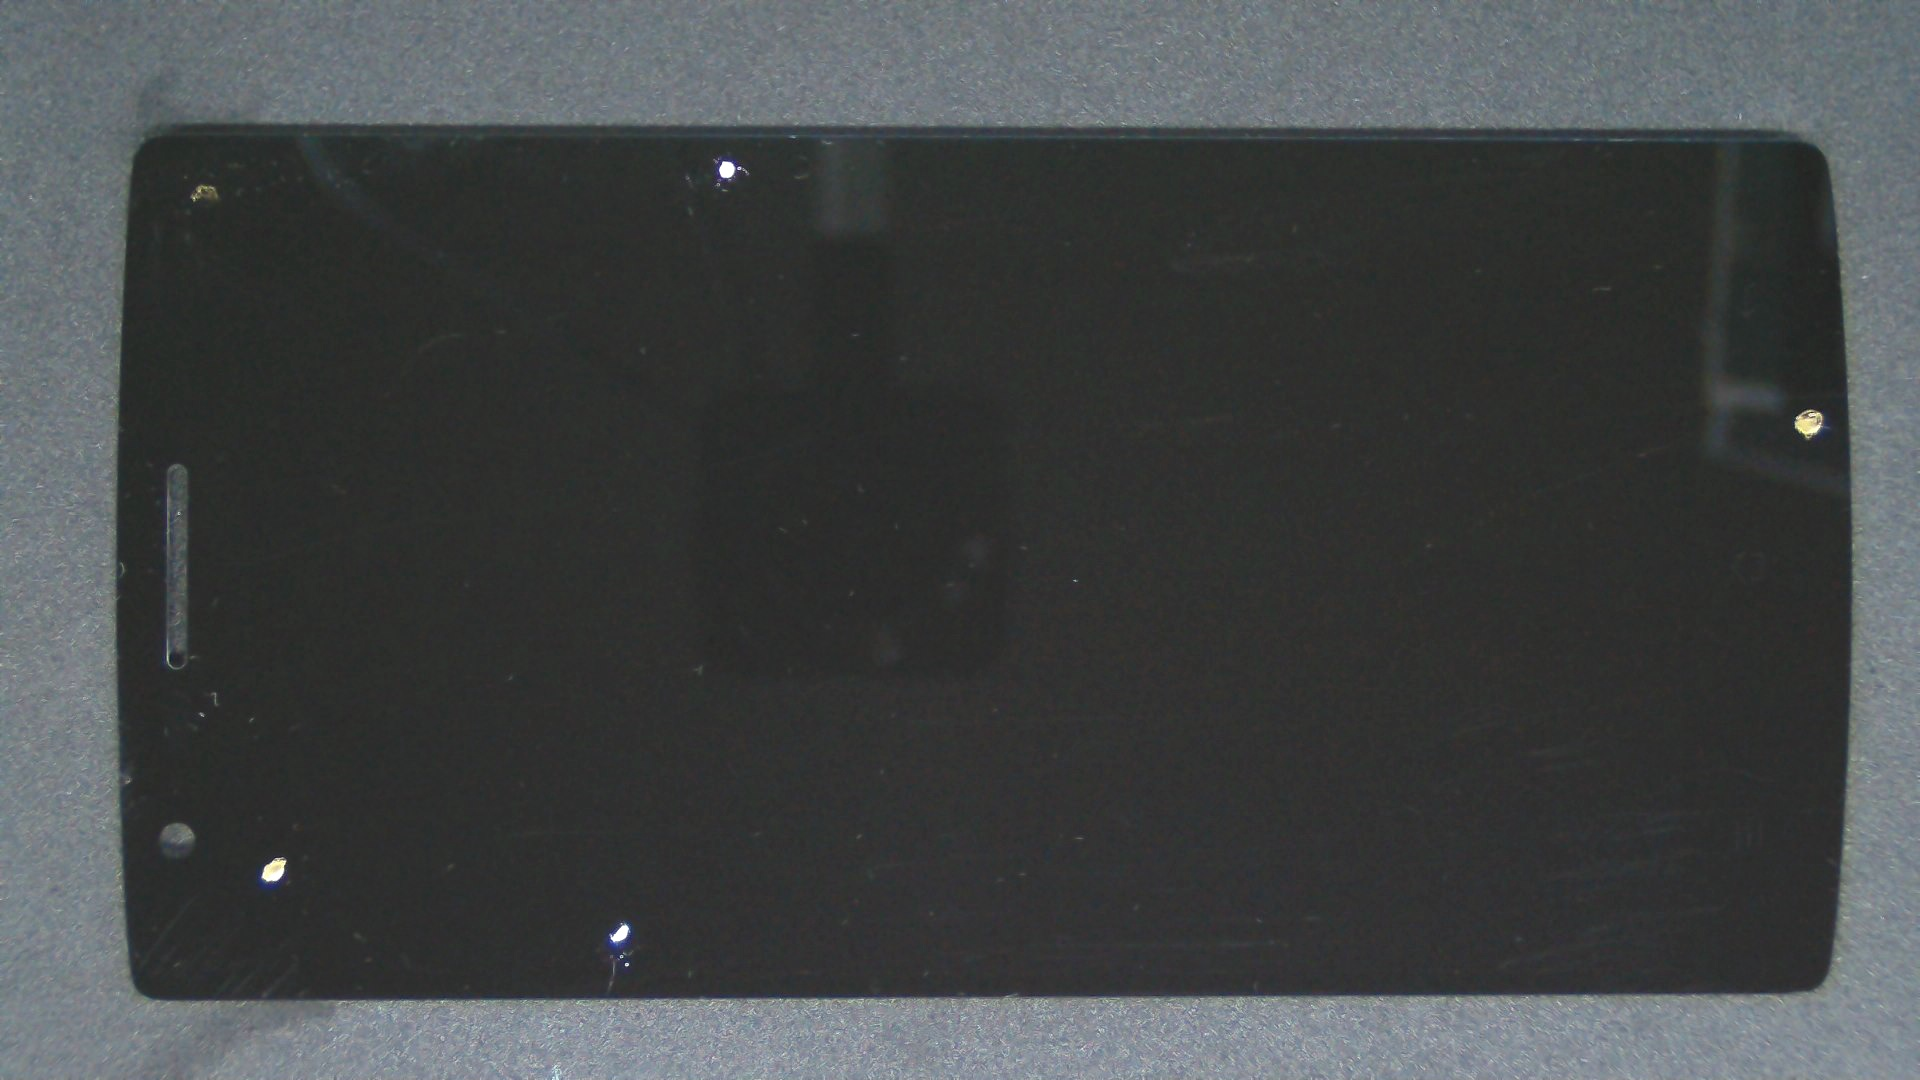oil: (905, 203, 1920, 612), (313, 460, 934, 1080), (316, 473, 945, 1080), (138, 427, 414, 1080), (359, 78, 1076, 236)
